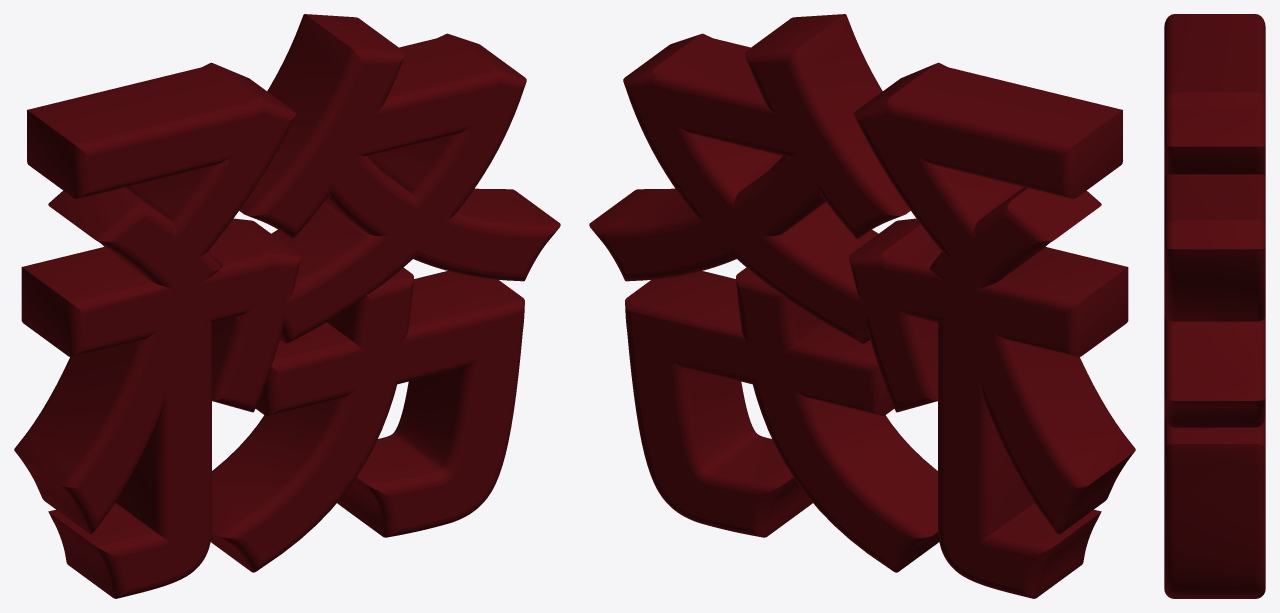
Rendered from MottoMou.fbx.
The picture shows the model from 3 angles, left to right: view 1: azimuth 30°, elevation 25°; view 2: azimuth 150°, elevation 25°; view 3: azimuth 270°, elevation 25°; orthographic projection. The views are drawn at different scales.
Visible parts, largest first — view 1: 文本.119; view 2: 文本.119; view 3: 文本.119.
Part boxes in pixels (x1,y1,x2,y2): 文本.119: [14, 14, 560, 598]; 文本.119: [589, 14, 1135, 598]; 文本.119: [1164, 14, 1265, 598].
Bounding box in the file's own units: 101 × 20 × 96.89.
